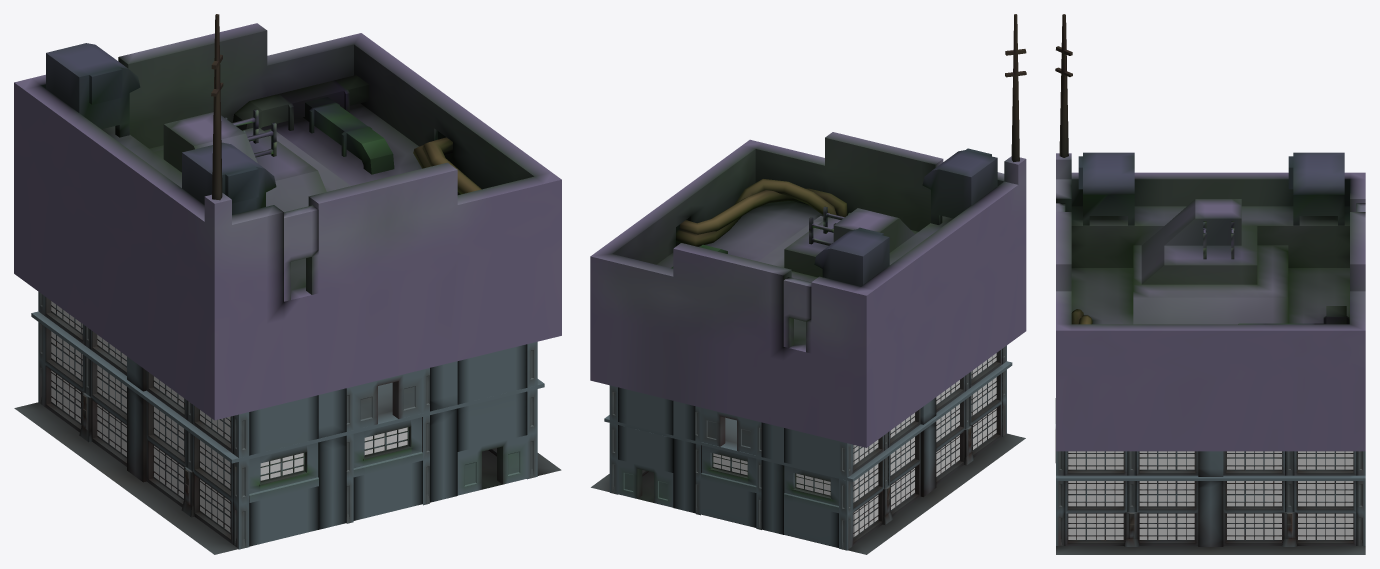
3 renders of one model, left to right at view 1: azimuth 30°, elevation 25°; view 2: azimuth 150°, elevation 25°; view 3: azimuth 270°, elevation 25°, orthographic. The views are drawn at different scales.
Visible parts, largest first — view 1: pyramid roof01, tank warehouse01, metal, glass tank warehouse01; view 2: pyramid roof01, tank warehouse01, metal, glass tank warehouse01; view 3: pyramid roof01, metal, tank warehouse01, glass tank warehouse01.
Boxes of the visible parts, box(x1,y1,x2,y2) form: pyramid roof01: box(14, 23, 561, 420); tank warehouse01: box(14, 292, 561, 554); metal: box(46, 14, 481, 534); glass tank warehouse01: box(51, 301, 407, 532); pyramid roof01: box(590, 132, 1026, 447); tank warehouse01: box(591, 345, 1025, 554); metal: box(671, 14, 1026, 538); glass tank warehouse01: box(713, 353, 996, 536); pyramid roof01: box(1056, 153, 1365, 451); metal: box(1055, 14, 1353, 540); tank warehouse01: box(1055, 398, 1365, 554); glass tank warehouse01: box(1068, 451, 1353, 539).
Bounding box in the file's own units: 20.11 × 29.97 × 20.04.
